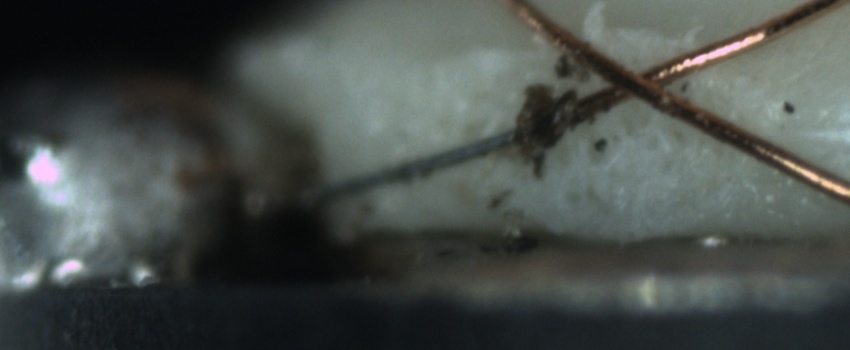CL: (588, 44, 689, 110)
DL: (714, 111, 850, 162)
TS: (288, 126, 526, 215)
TTCW: (285, 92, 621, 211)
